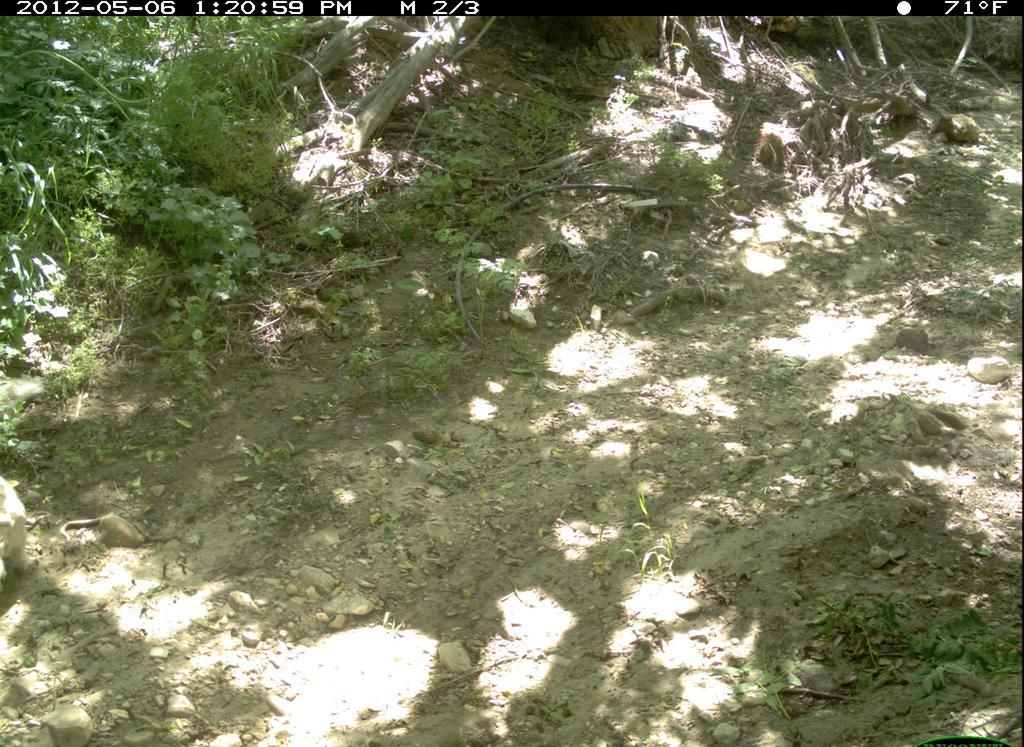dog: (2, 463, 35, 592)
